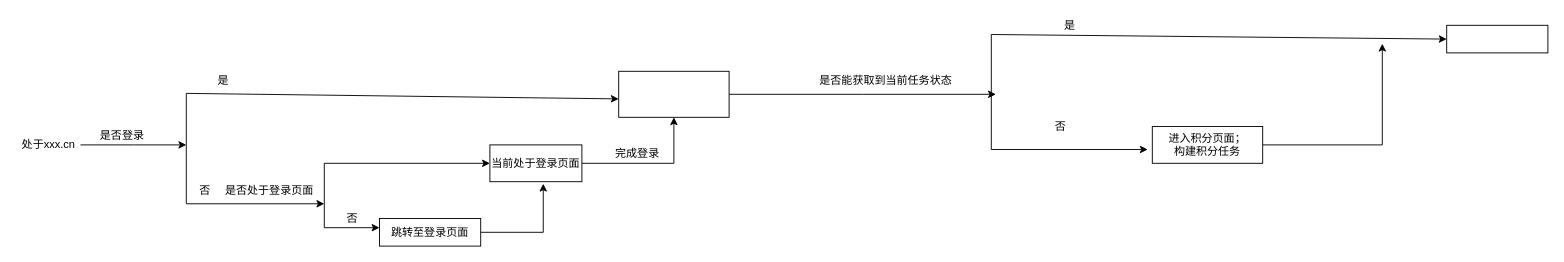
Image size: 1564x262. Some labels were removed from this diagram. The centre of each missing label's shape, as x and y in pixels:
当前已经登录: (673,93)
执行当前任务: (1497,38)
